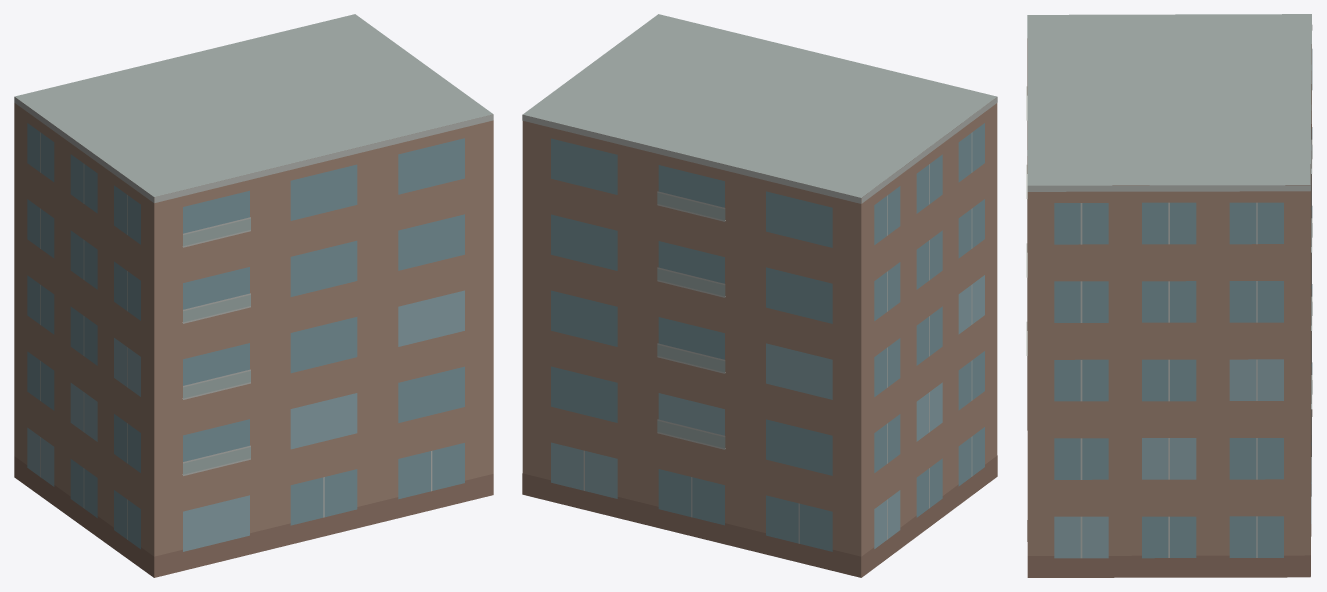
The model's file is survey-upis-32877403.glb.
The picture shows the model from 3 angles, left to right: view 1: azimuth 30°, elevation 25°; view 2: azimuth 150°, elevation 25°; view 3: azimuth 270°, elevation 25°; orthographic projection. The views are drawn at different scales.
Visible parts, largest first — view 1: survey-upis-32877403.tmp; view 2: survey-upis-32877403.tmp; view 3: survey-upis-32877403.tmp.
Part boxes in pixels (x1,y1,x2,y2): survey-upis-32877403.tmp: [14, 14, 493, 577]; survey-upis-32877403.tmp: [522, 14, 997, 577]; survey-upis-32877403.tmp: [1026, 14, 1312, 577].
Bounding box in the file's own units: 14.32 × 15.25 × 10.09.
